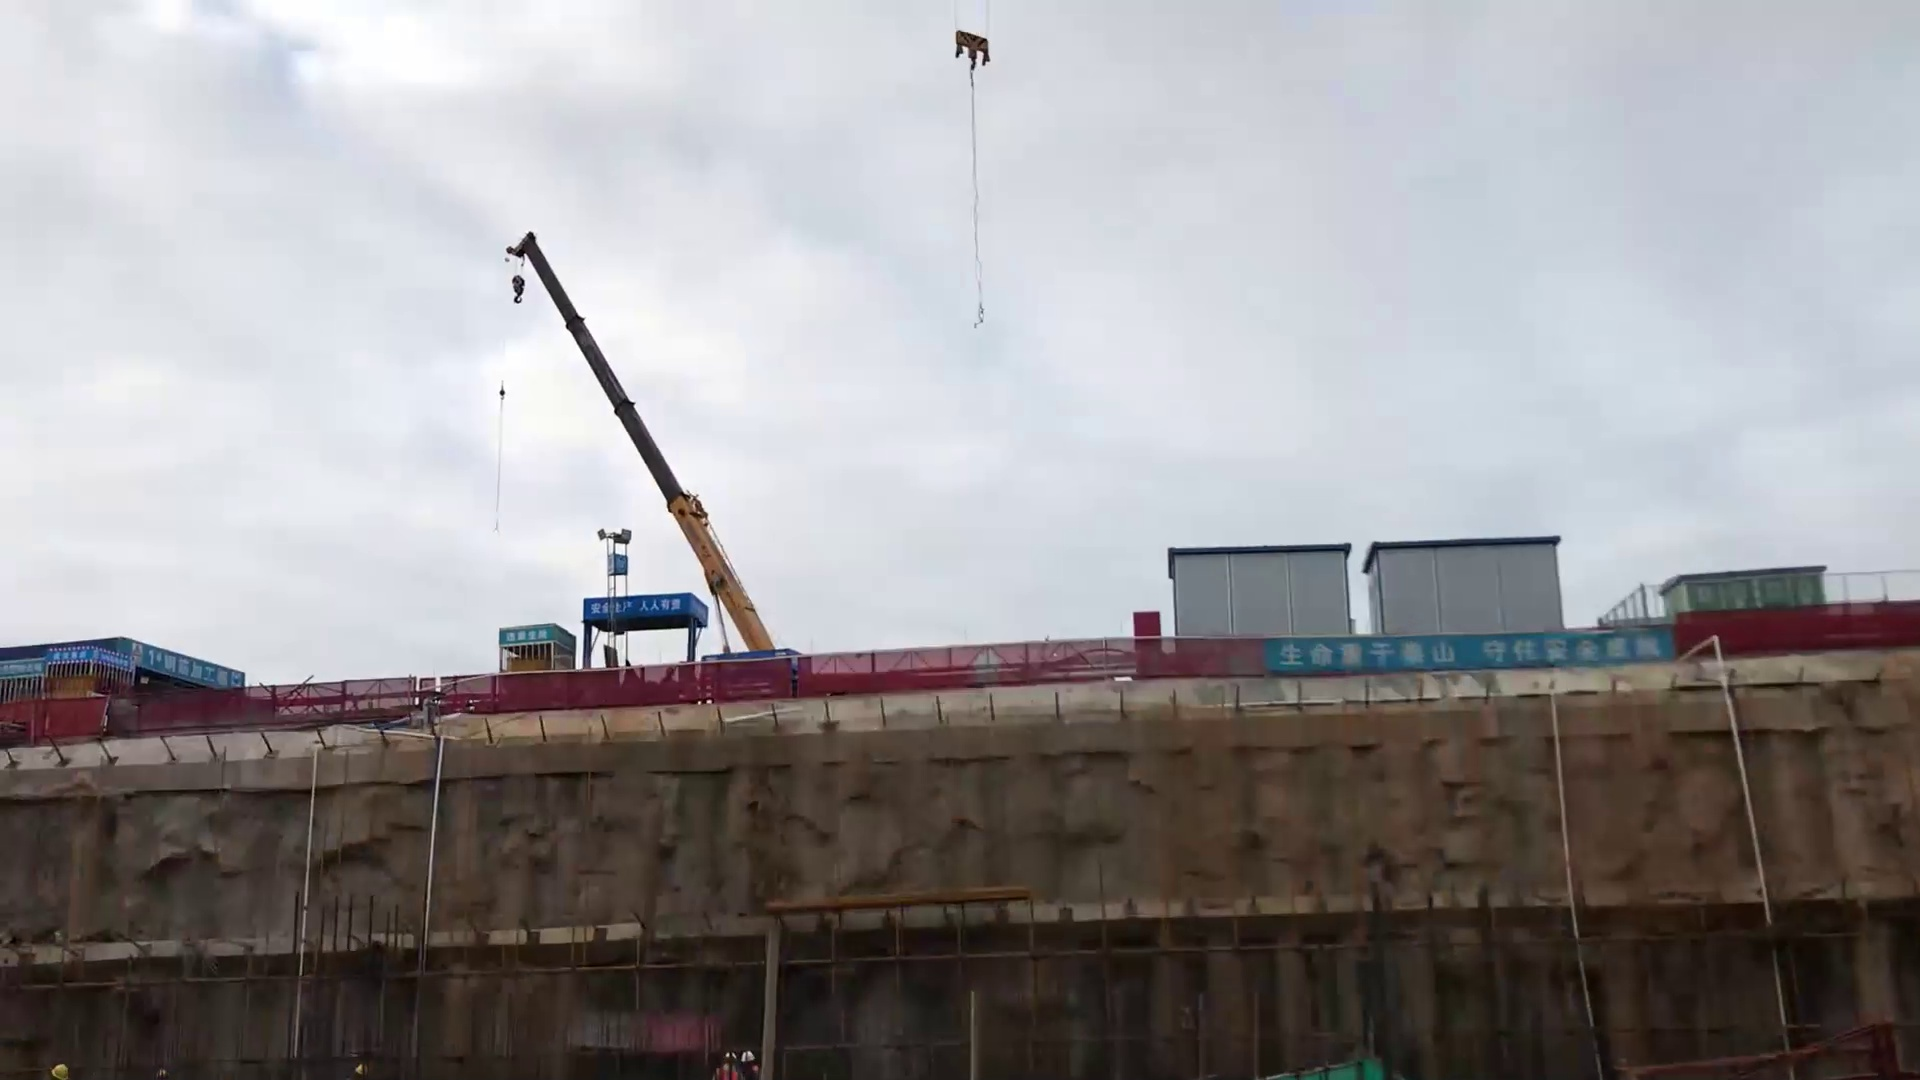fence: (251, 634, 1159, 736), (1687, 597, 1909, 688), (1164, 633, 1265, 688)
helmet: (44, 1062, 75, 1079)
hook: (938, 1, 1015, 103), (498, 272, 549, 319)
slogan: (1258, 630, 1735, 694), (127, 630, 256, 684), (574, 583, 717, 630), (40, 620, 127, 688), (484, 613, 578, 647), (1, 650, 49, 704)
